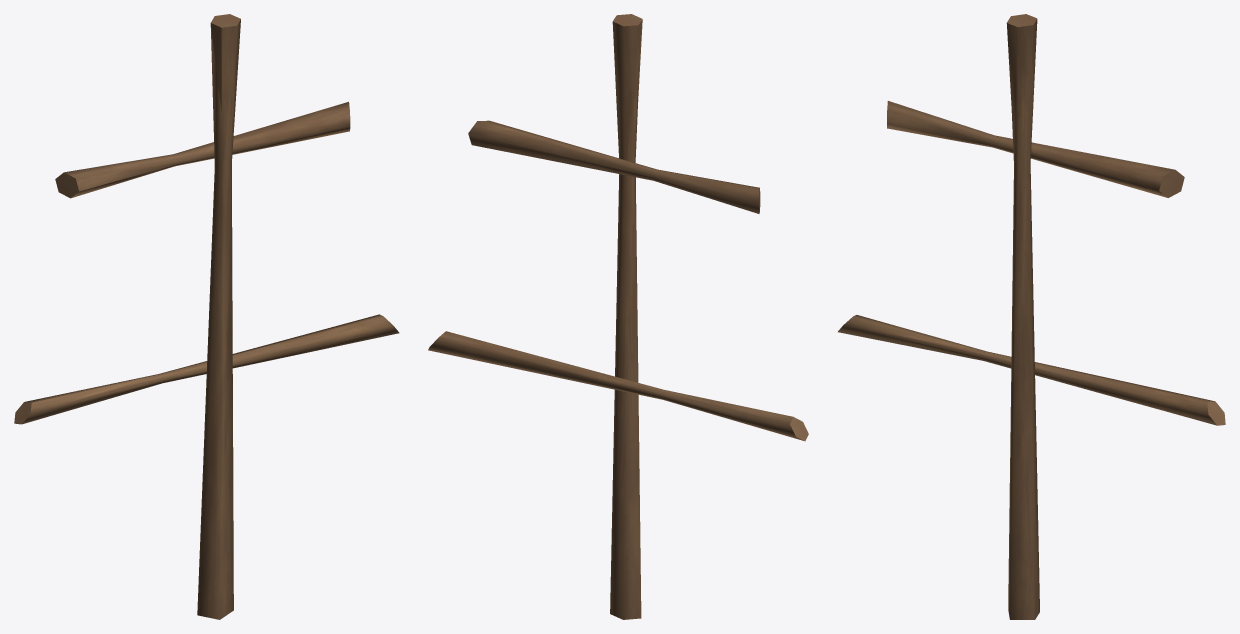
Rendered from A_HA_GEN_Ship_Mast_Front_01.fbx.
3 views of the same model, side by side, from view 1: azimuth 30°, elevation 25°; view 2: azimuth 150°, elevation 25°; view 3: azimuth 330°, elevation 25° (orthographic).
Visible parts, largest first — view 1: A_HA_Gen_Ship_Mast_Front_01; view 2: A_HA_Gen_Ship_Mast_Front_01; view 3: A_HA_Gen_Ship_Mast_Front_01.
Boxes of the visible parts, x1=… form: A_HA_Gen_Ship_Mast_Front_01: x1=14, y1=14, x2=399, y2=619; A_HA_Gen_Ship_Mast_Front_01: x1=428, y1=14, x2=808, y2=619; A_HA_Gen_Ship_Mast_Front_01: x1=838, y1=14, x2=1225, y2=619.
Size of the model in its own units: 1211 by 1805 by 155.
1 material, 1 textured.
